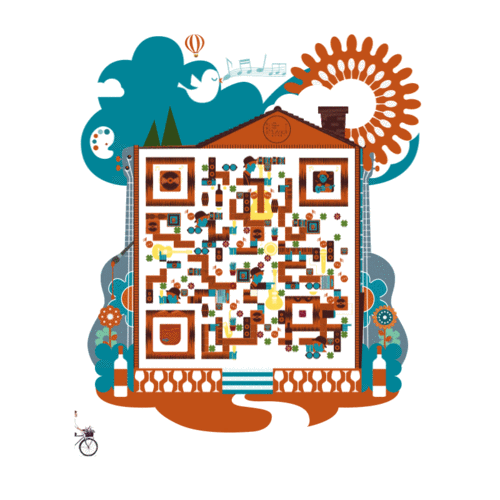QRCode: (141, 152, 350, 362)
